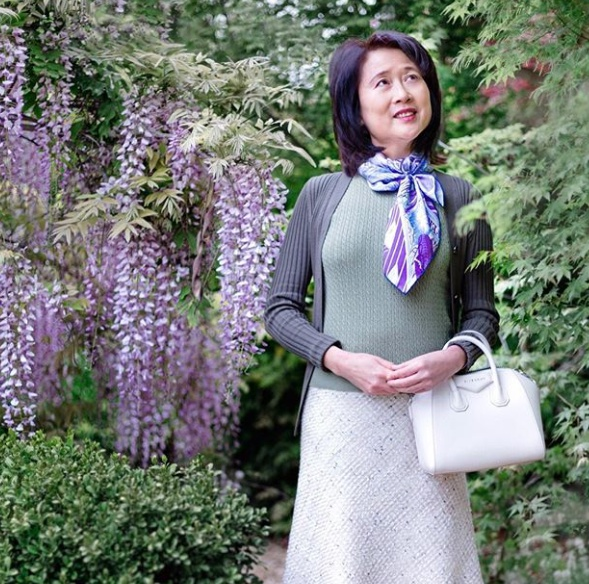mouth: (391, 107, 418, 122)
nose: (391, 94, 413, 104)
